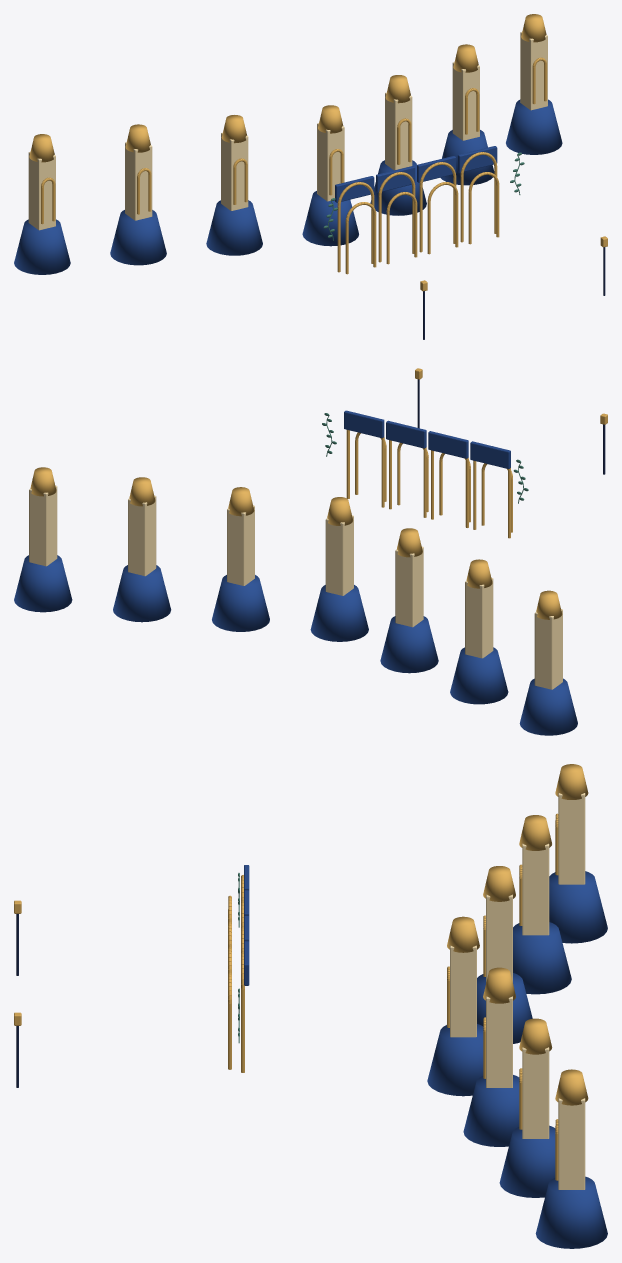
File: mirrors.glb
3 views of the same model, one above another, from view 1: azimuth 30°, elevation 25°; view 2: azimuth 150°, elevation 25°; view 3: azimuth 270°, elevation 25° (orthographic). The views are drawn at different scales.
Parts seen in each view (by area): view 1: Architecture_blue, Architecture_cream, Architecture_gold; view 2: Architecture_blue, Architecture_cream, Architecture_gold; view 3: Architecture_blue, Architecture_cream, Architecture_gold.
Part boxes in pixels (x1,y1,x2,y2): Architecture_blue: [14, 99, 562, 274]; Architecture_cream: [28, 32, 547, 230]; Architecture_gold: [29, 14, 607, 291]; Architecture_blue: [14, 410, 577, 735]; Architecture_cream: [29, 485, 562, 689]; Architecture_gold: [30, 368, 607, 619]; Architecture_blue: [244, 865, 607, 1248]; Architecture_cream: [450, 793, 585, 1189]; Architecture_gold: [14, 764, 588, 1180].
Size of the model in its own units: 26.4 by 6.1 by 19.73.
